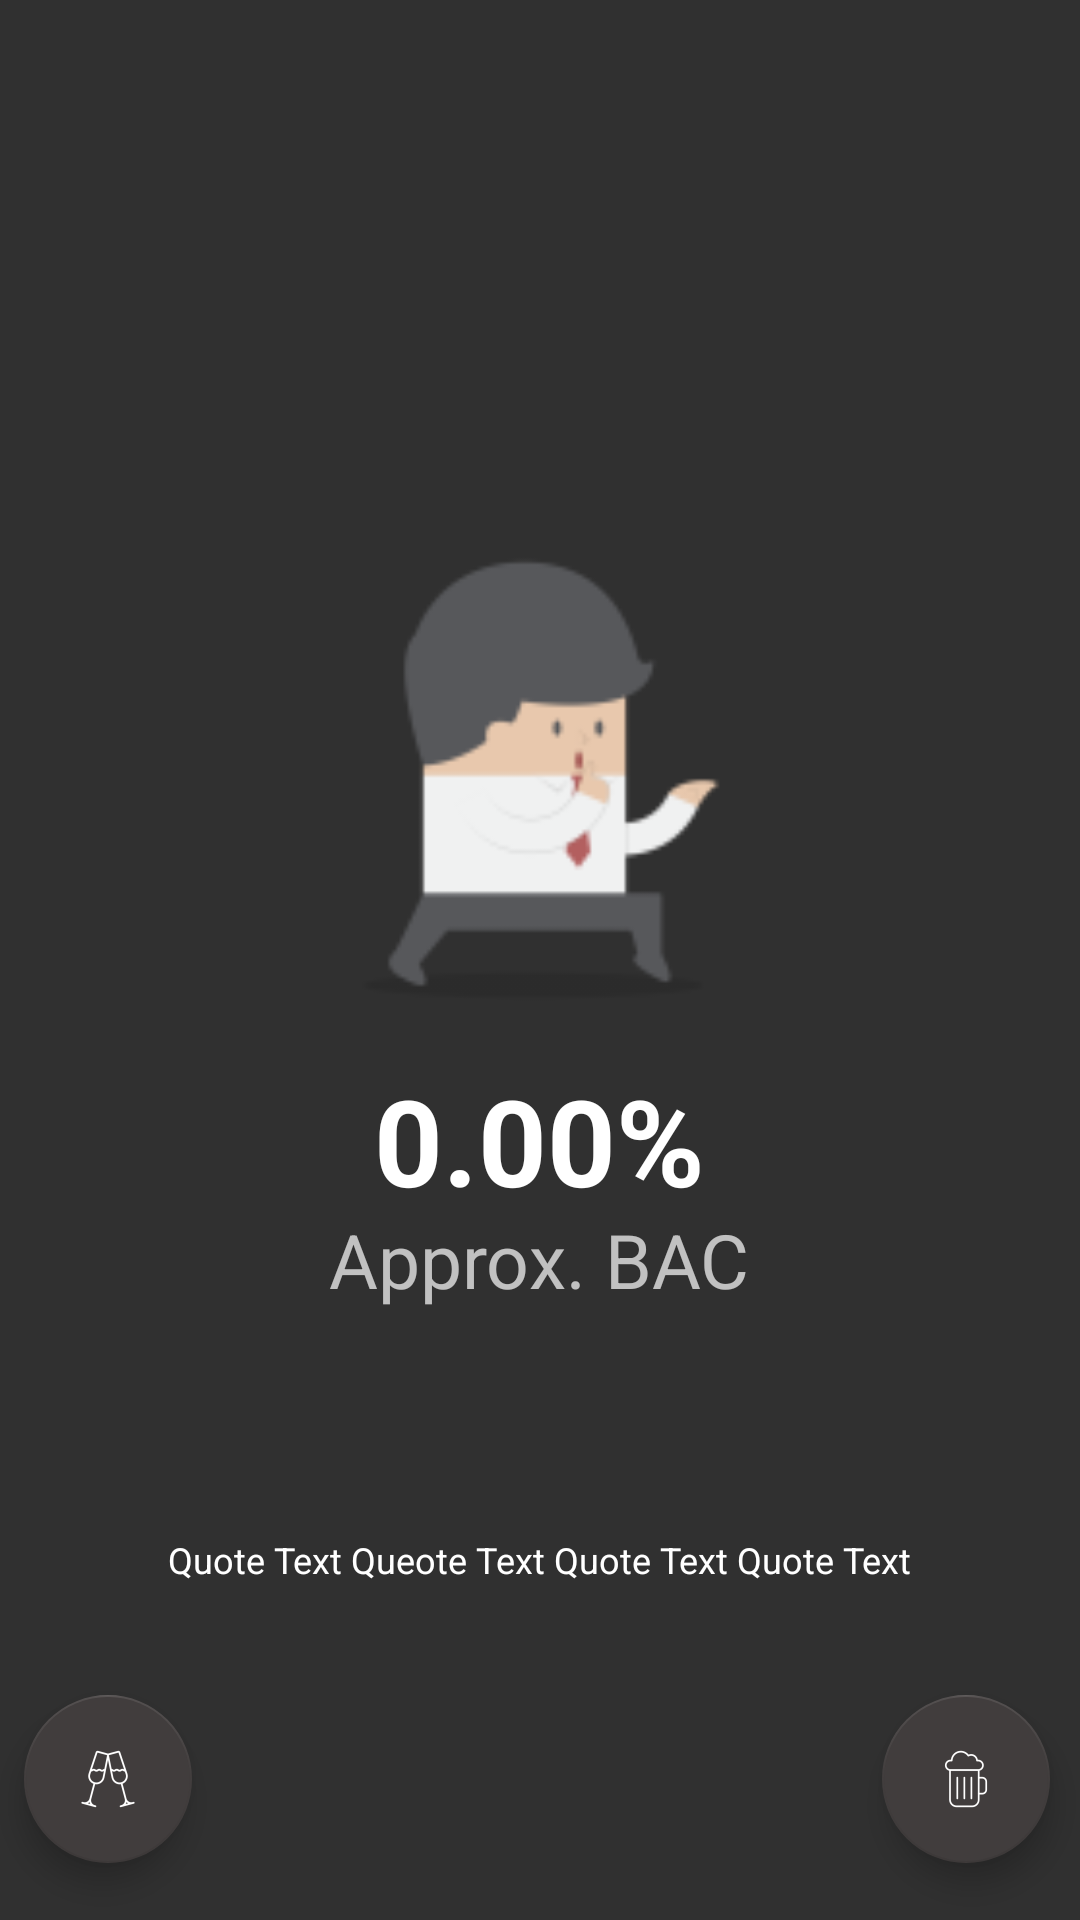

Locate icon controls on the screen. Image size 1080px×1920px, boxes as Rect(x1, y1, x2, y2).
glass: Rect(24, 1695, 192, 1863)
